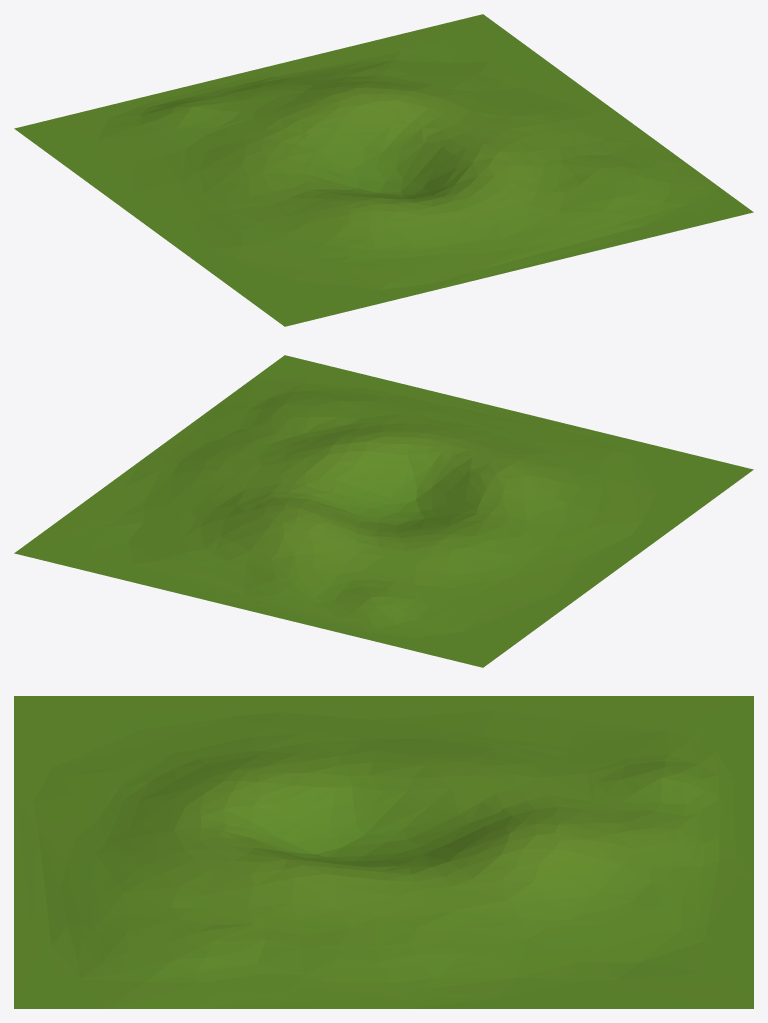
File: Terrain_07.fbx
3 views of the same model, one above another, from view 1: azimuth 30°, elevation 25°; view 2: azimuth 150°, elevation 25°; view 3: azimuth 270°, elevation 25° (orthographic). The views are drawn at different scales.
Visible parts, largest first — view 1: Terrain_07; view 2: Terrain_07; view 3: Terrain_07.
Part boxes in pixels (bbox=[...]): Terrain_07: bbox=[14, 14, 753, 326]; Terrain_07: bbox=[14, 355, 753, 667]; Terrain_07: bbox=[14, 696, 753, 1008].
Size of the model in its own units: 12800 by 889 by 12800.
